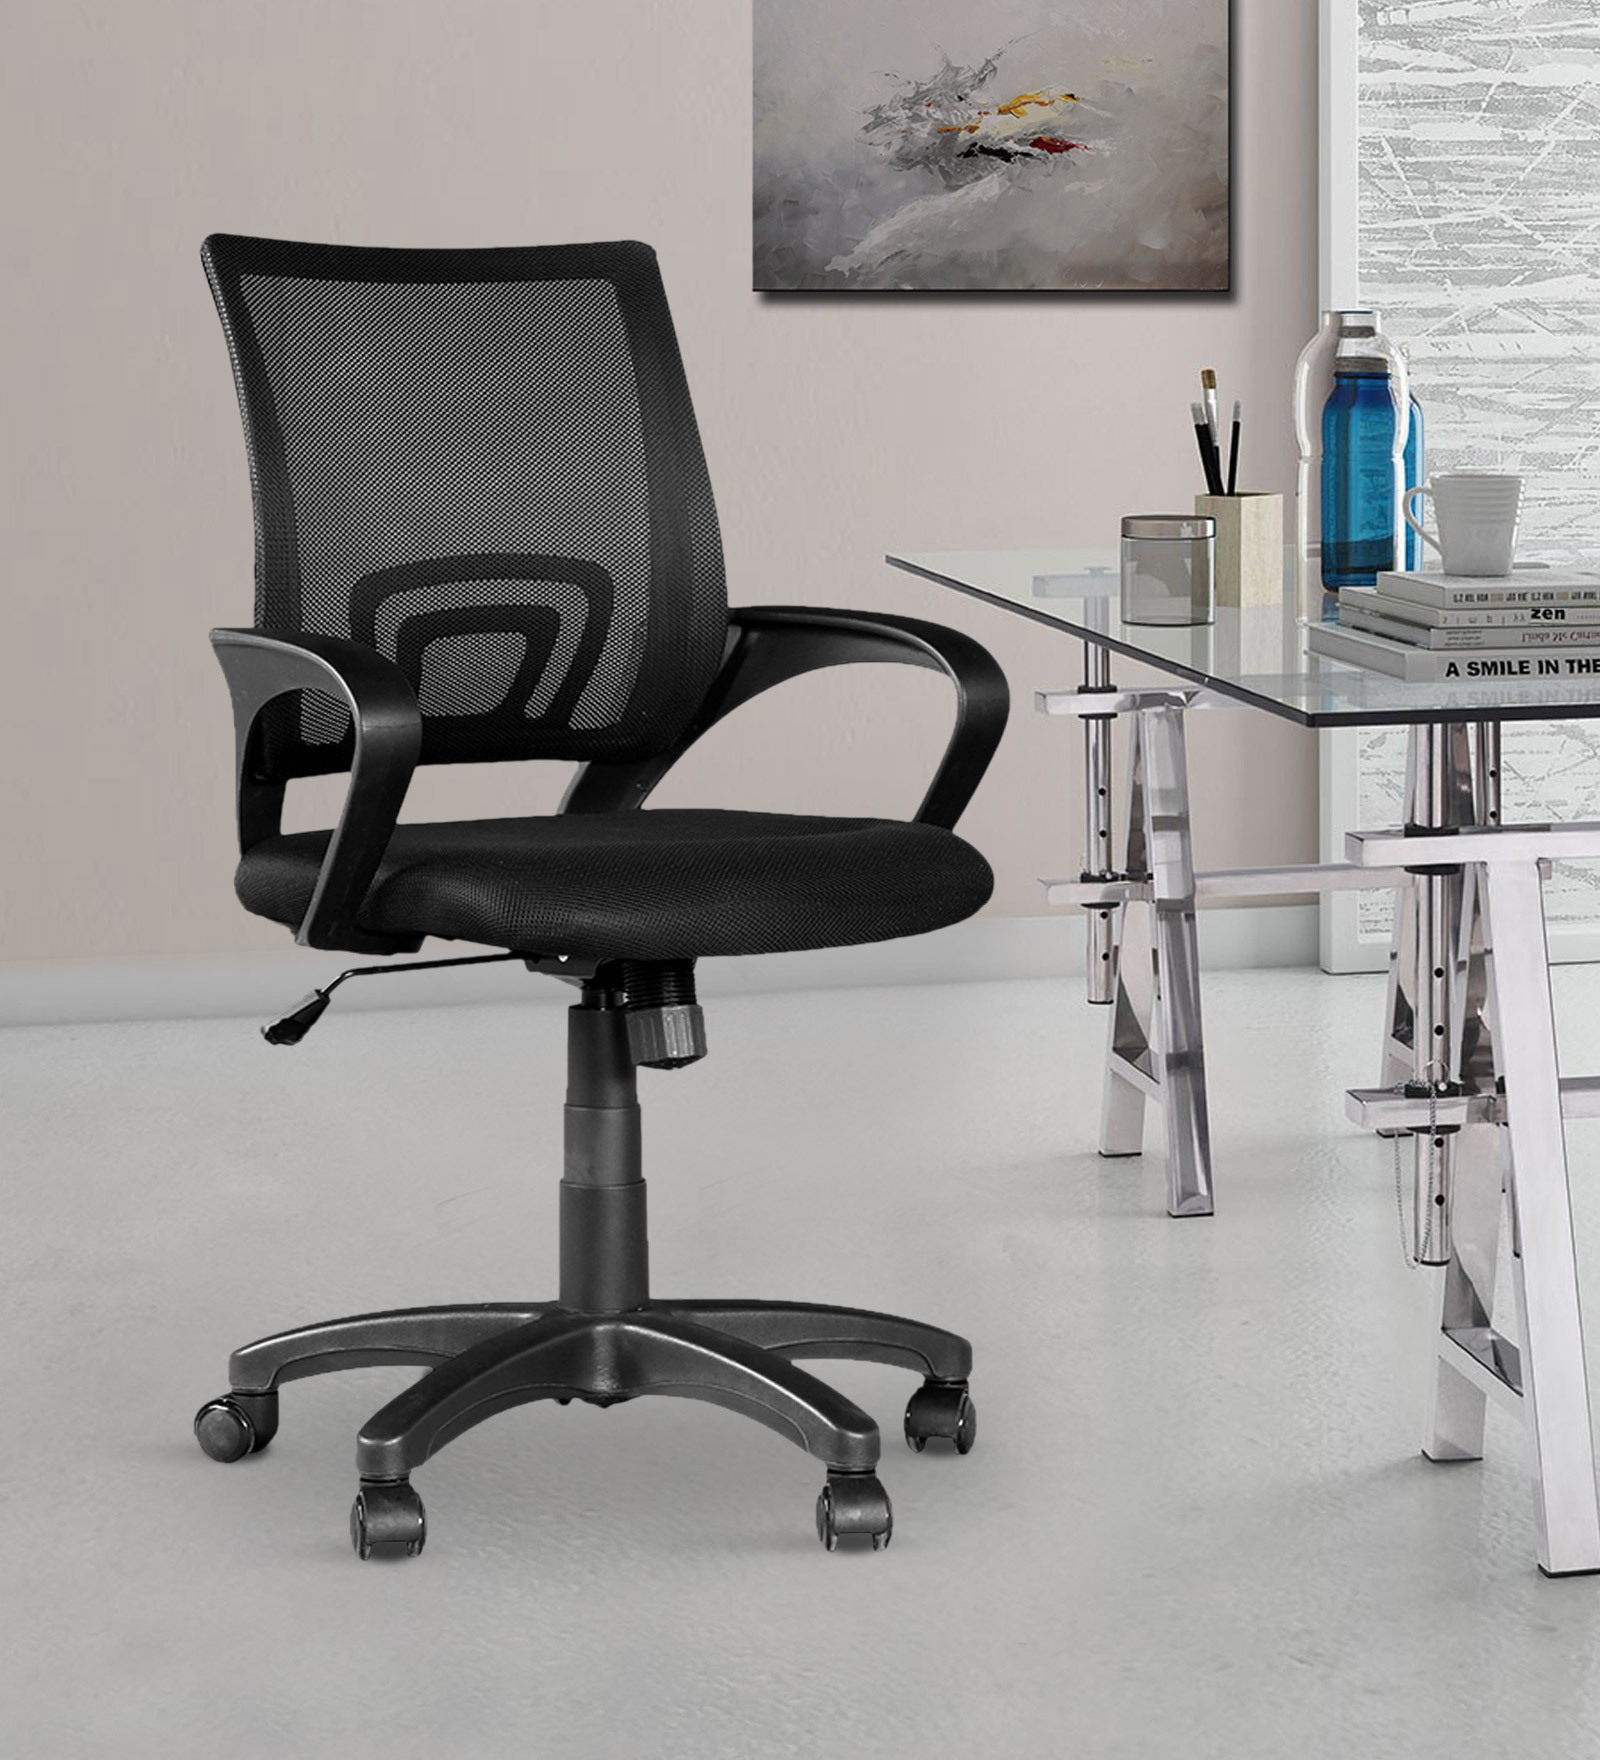Regus Low Back Mesh Chair in Green Colour by Hometown: (115, 179, 1044, 1591)
